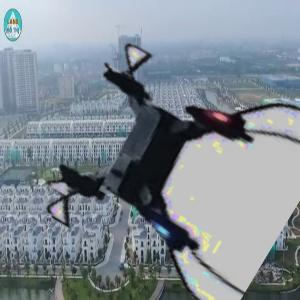drone: (55, 48, 300, 293)
